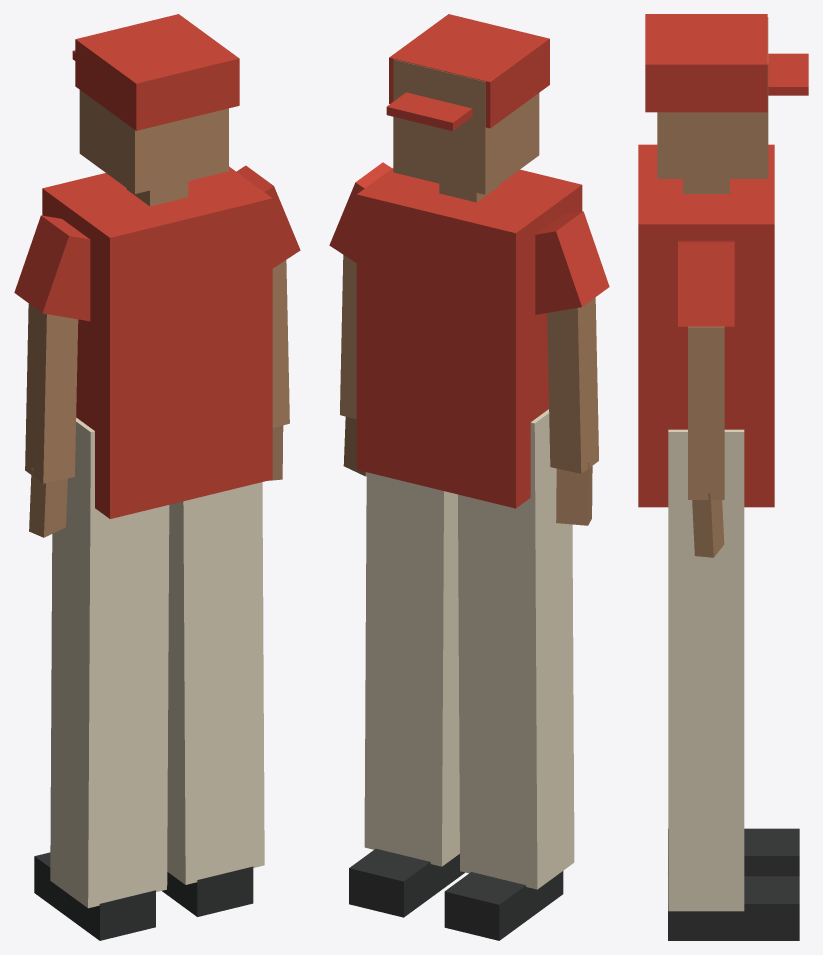
File: pedestrian_05_far.glb
The picture shows the model from 3 angles, left to right: view 1: azimuth 30°, elevation 25°; view 2: azimuth 150°, elevation 25°; view 3: azimuth 270°, elevation 25°; orthographic projection. The views are drawn at different scales.
Visible parts, largest first — view 1: pedestrian_05 crowd_trousers.001, pedestrian_05 crowd_shirt.001, pedestrian_05 crowd_skin.001, pedestrian_05 crowd_accessory.001, pedestrian_05 crowd_rubber.001; view 2: pedestrian_05 crowd_trousers.001, pedestrian_05 crowd_shirt.001, pedestrian_05 crowd_skin.001, pedestrian_05 crowd_accessory.001, pedestrian_05 crowd_rubber.001; view 3: pedestrian_05 crowd_shirt.001, pedestrian_05 crowd_trousers.001, pedestrian_05 crowd_skin.001, pedestrian_05 crowd_accessory.001, pedestrian_05 crowd_rubber.001.
Boxes of the visible parts, left/top/right/bottom form: pedestrian_05 crowd_trousers.001: left=50, top=418, right=264, bottom=908; pedestrian_05 crowd_shirt.001: left=14, top=165, right=300, bottom=518; pedestrian_05 crowd_skin.001: left=25, top=90, right=289, bottom=537; pedestrian_05 crowd_accessory.001: left=72, top=14, right=239, bottom=130; pedestrian_05 crowd_rubber.001: left=34, top=852, right=253, bottom=940; pedestrian_05 crowd_trousers.001: left=364, top=409, right=574, bottom=889; pedestrian_05 crowd_shirt.001: left=329, top=162, right=609, bottom=508; pedestrian_05 crowd_skin.001: left=340, top=59, right=598, bottom=525; pedestrian_05 crowd_accessory.001: left=386, top=14, right=549, bottom=130; pedestrian_05 crowd_rubber.001: left=349, top=848, right=563, bottom=940; pedestrian_05 crowd_shirt.001: left=638, top=144, right=774, bottom=507; pedestrian_05 crowd_trousers.001: left=668, top=429, right=744, bottom=911; pedestrian_05 crowd_skin.001: left=657, top=17, right=768, bottom=557; pedestrian_05 crowd_accessory.001: left=645, top=14, right=808, bottom=112; pedestrian_05 crowd_rubber.001: left=668, top=828, right=799, bottom=940.
Size of the model in its own units: 0.5717 by 1.82 by 0.325.
